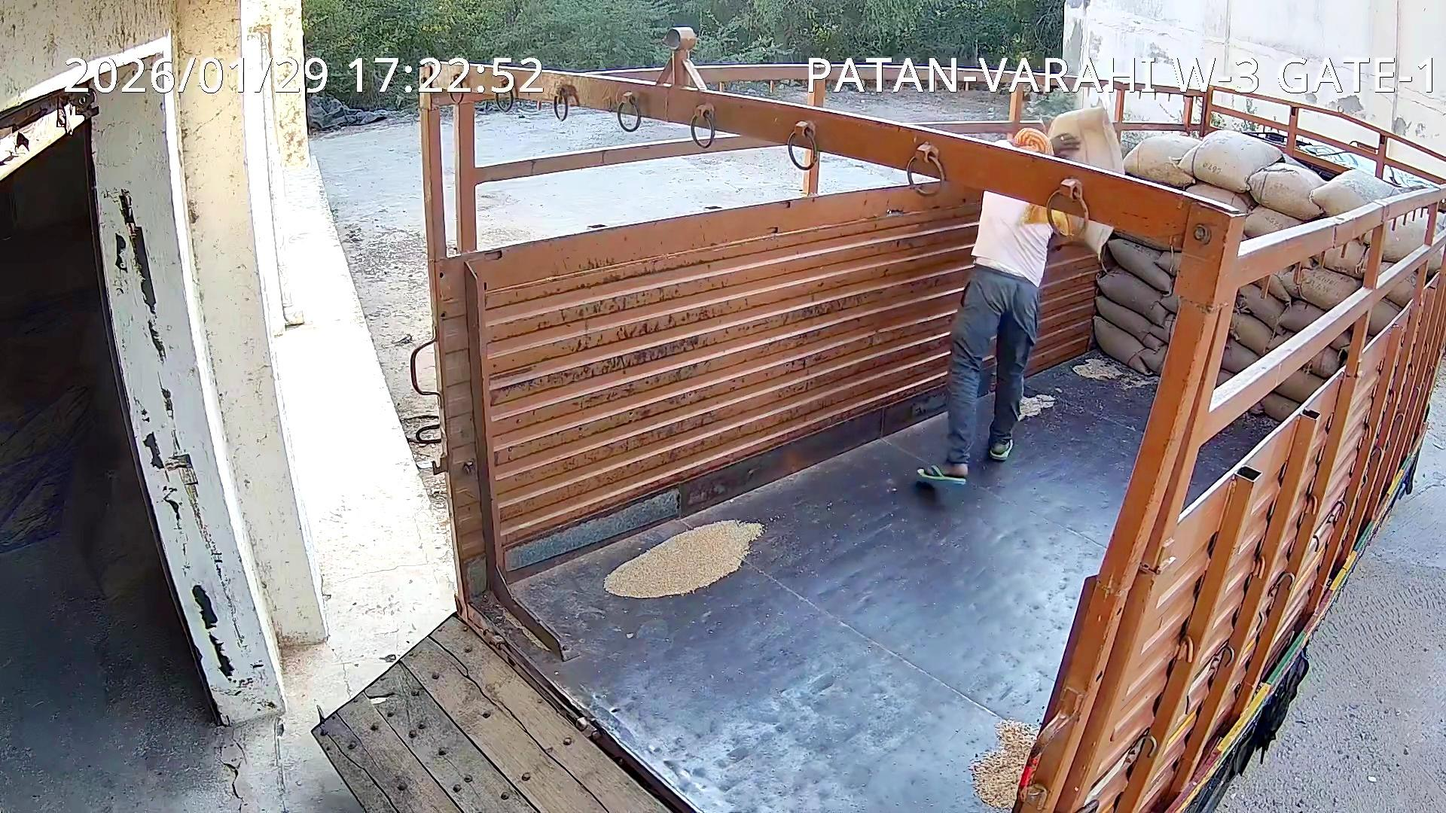Sack: (1048, 105, 1123, 174), (1080, 222, 1112, 254)
